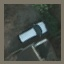car: (18, 22, 45, 46)
